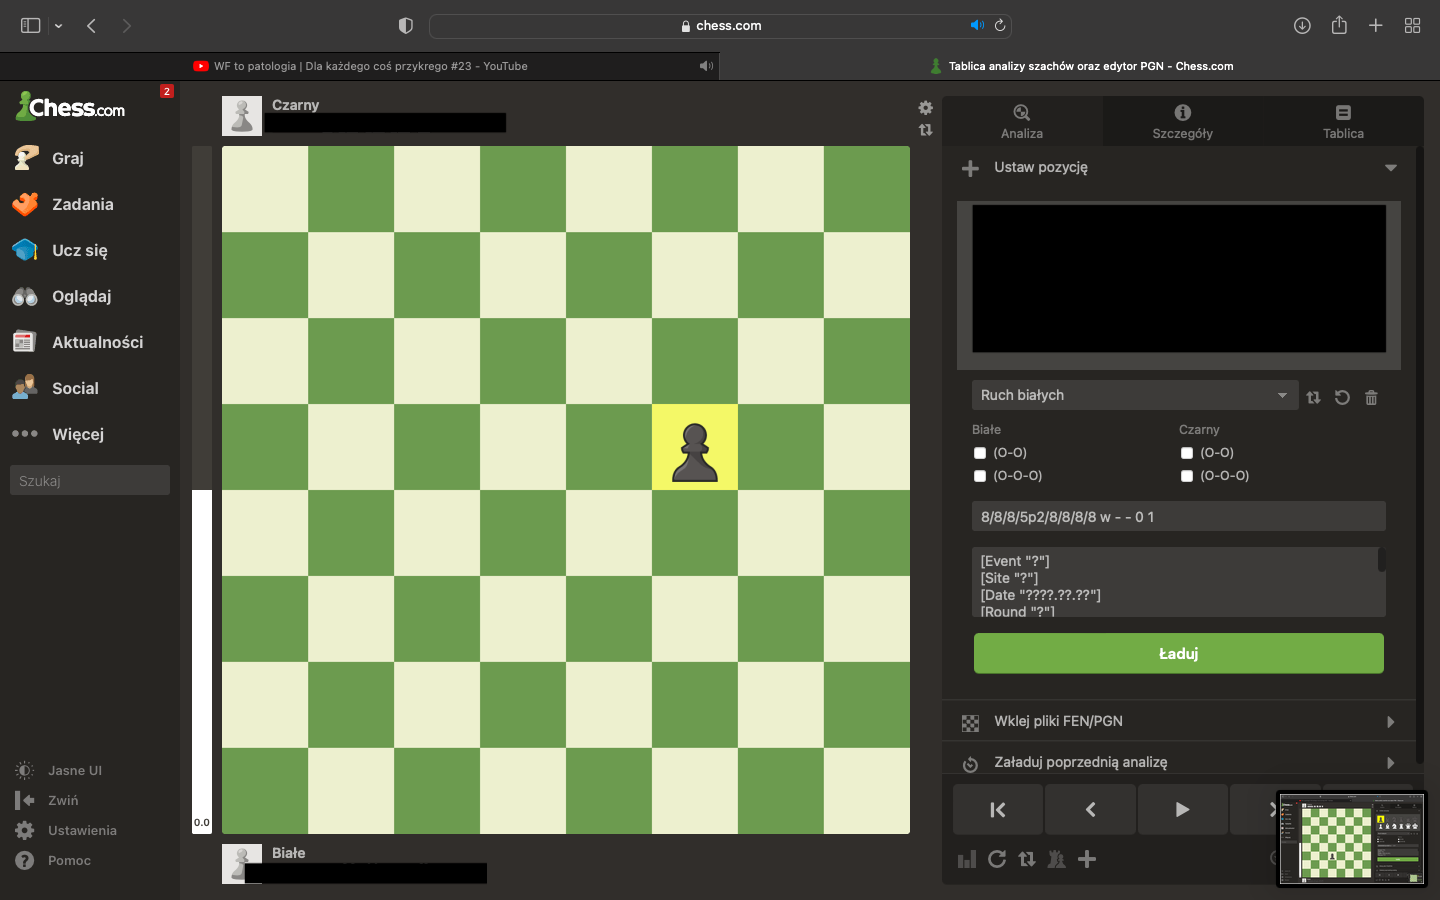black_pawn: (671, 422, 719, 483)
